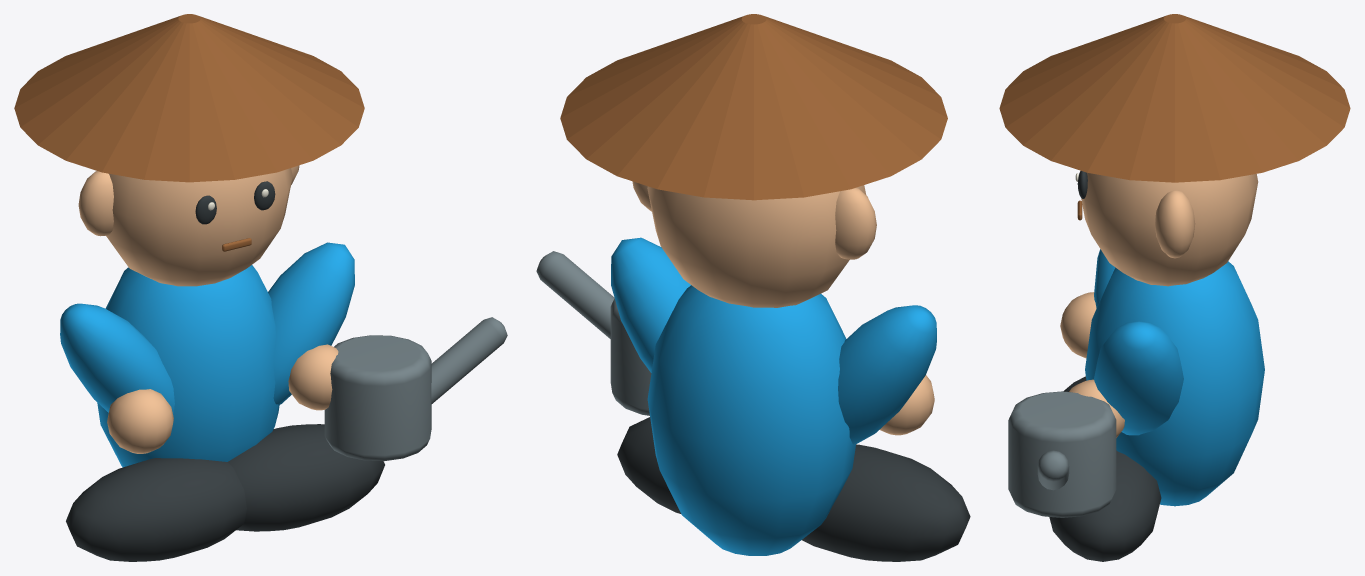
The model's file is JPN-22.glb.
The picture shows the model from 3 angles, left to right: view 1: azimuth 30°, elevation 25°; view 2: azimuth 150°, elevation 25°; view 3: azimuth 270°, elevation 25°; orthographic projection. The views are drawn at different scales.
Parts seen in each view (by area): view 1: conical straw hat, robe, head, crossed leg, watering can, crossed leg.001, arm.001, arm, hand, watering spout, hand.001, ear; view 2: conical straw hat, robe, head, crossed leg, arm, arm.001, watering spout, watering can, crossed leg.001, ear, hand; view 3: conical straw hat, robe, head, watering can, arm.001, crossed leg.001, ear.001, hand, watering spout, arm, hand.001.
Boxes of the visible parts, x1=… form: conical straw hat: x1=14, y1=14, x2=364, y2=182; robe: x1=97, y1=265, x2=279, y2=467; head: x1=106, y1=168, x2=292, y2=286; crossed leg: x1=66, y1=458, x2=246, y2=561; watering can: x1=324, y1=335, x2=431, y2=461; crossed leg.001: x1=228, y1=424, x2=384, y2=531; arm.001: x1=268, y1=242, x2=354, y2=405; arm: x1=60, y1=303, x2=174, y2=422; hand: x1=107, y1=389, x2=173, y2=453; watering spout: x1=431, y1=317, x2=507, y2=403; hand.001: x1=288, y1=344, x2=338, y2=410; ear: x1=78, y1=171, x2=113, y2=236; conical straw hat: x1=560, y1=14, x2=947, y2=200; robe: x1=647, y1=285, x2=855, y2=555; head: x1=647, y1=185, x2=866, y2=307; crossed leg: x1=802, y1=444, x2=970, y2=561; arm: x1=838, y1=305, x2=936, y2=444; arm.001: x1=611, y1=237, x2=690, y2=372; watering spout: x1=536, y1=251, x2=614, y2=338; watering can: x1=610, y1=298, x2=651, y2=415; crossed leg.001: x1=617, y1=417, x2=680, y2=513; ear: x1=835, y1=187, x2=876, y2=259; hand: x1=879, y1=375, x2=934, y2=435; conical straw hat: x1=999, y1=14, x2=1350, y2=182; robe: x1=1085, y1=261, x2=1264, y2=506; head: x1=1080, y1=171, x2=1258, y2=286; watering can: x1=1008, y1=391, x2=1116, y2=517; arm.001: x1=1094, y1=321, x2=1183, y2=435; crossed leg.001: x1=1049, y1=450, x2=1161, y2=561; ear.001: x1=1155, y1=190, x2=1195, y2=258; hand: x1=1060, y1=292, x2=1096, y2=358; watering spout: x1=1037, y1=450, x2=1069, y2=490; arm: x1=1094, y1=249, x2=1115, y2=307; hand.001: x1=1069, y1=379, x2=1124, y2=437.
Size of the model in its own units: 1.05 by 1.21 by 0.78.
